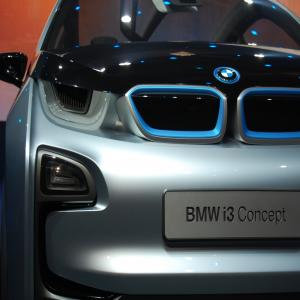Vehicle-registration-plate: (170, 195, 274, 243)
